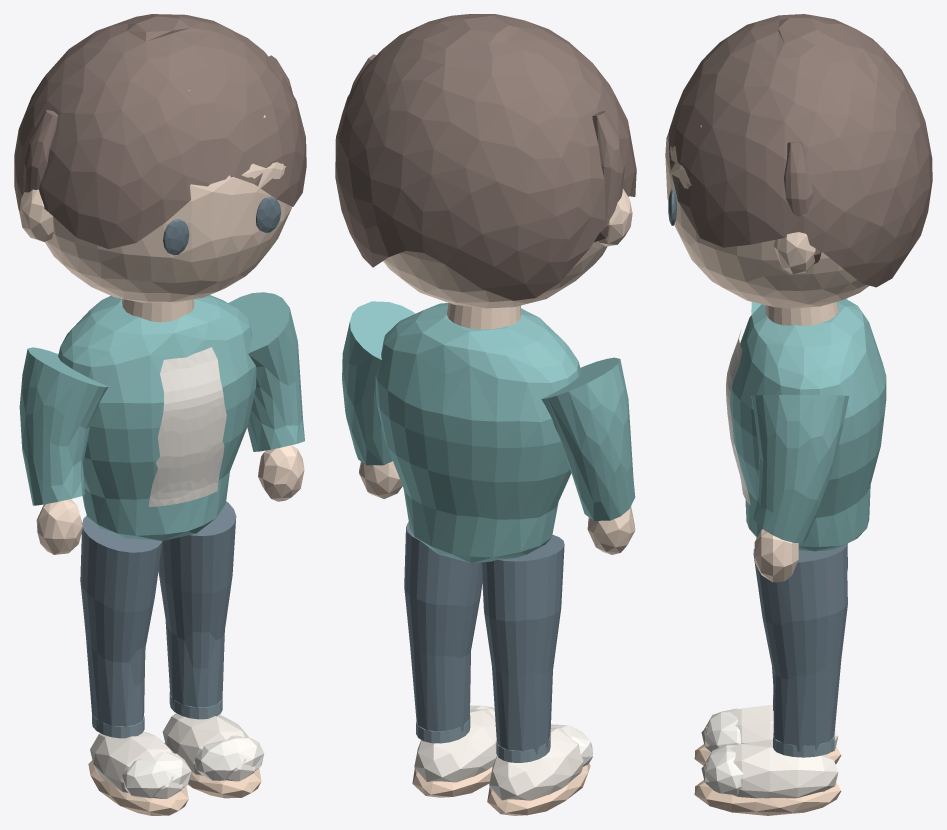
Rendered from kaohsiung_chibi_overview.glb.
The picture shows the model from 3 angles, left to right: view 1: azimuth 30°, elevation 25°; view 2: azimuth 150°, elevation 25°; view 3: azimuth 270°, elevation 25°; orthographic projection. The views are drawn at different scales.
Visible parts, largest first — view 1: OverviewMaterial_09, OverviewMaterial_02, OverviewMaterial_06, OverviewMaterial_00, OverviewMaterial_01, OverviewMaterial_04, OverviewMaterial_03, OverviewMaterial_05, OverviewMaterial_08, OverviewMaterial_07; view 2: OverviewMaterial_09, OverviewMaterial_02, OverviewMaterial_06, OverviewMaterial_00, OverviewMaterial_04, OverviewMaterial_05, OverviewMaterial_07, OverviewMaterial_03; view 3: OverviewMaterial_09, OverviewMaterial_02, OverviewMaterial_06, OverviewMaterial_00, OverviewMaterial_04, OverviewMaterial_05, OverviewMaterial_03, OverviewMaterial_01, OverviewMaterial_07.
Boxes of the visible parts, box(x1,y1,x2,y2) form: OverviewMaterial_09: box(14, 14, 306, 249); OverviewMaterial_02: box(19, 292, 304, 540); OverviewMaterial_06: box(80, 501, 236, 727); OverviewMaterial_00: box(19, 90, 304, 554); OverviewMaterial_01: box(149, 347, 226, 506); OverviewMaterial_04: box(90, 713, 255, 798); OverviewMaterial_03: box(122, 735, 264, 798); OverviewMaterial_05: box(88, 742, 261, 815); OverviewMaterial_08: box(163, 196, 281, 255); OverviewMaterial_07: box(92, 692, 222, 738); OverviewMaterial_09: box(335, 14, 636, 300); OverviewMaterial_02: box(342, 301, 635, 563); OverviewMaterial_06: box(404, 522, 564, 754); OverviewMaterial_00: box(359, 189, 635, 554); OverviewMaterial_04: box(414, 709, 583, 800); OverviewMaterial_05: box(412, 763, 590, 815); OverviewMaterial_07: box(416, 715, 550, 762); OverviewMaterial_03: box(470, 705, 593, 766); OverviewMaterial_09: box(668, 14, 932, 287); OverviewMaterial_02: box(730, 298, 886, 551); OverviewMaterial_06: box(753, 537, 847, 751); OverviewMaterial_00: box(665, 54, 869, 582); OverviewMaterial_04: box(701, 705, 838, 798); OverviewMaterial_05: box(694, 744, 841, 815); OverviewMaterial_03: box(704, 708, 743, 795); OverviewMaterial_01: box(726, 330, 750, 505); OverviewMaterial_07: box(773, 695, 834, 757).
Bounding box in the file's own units: 1.16 × 3.03 × 0.9585.
